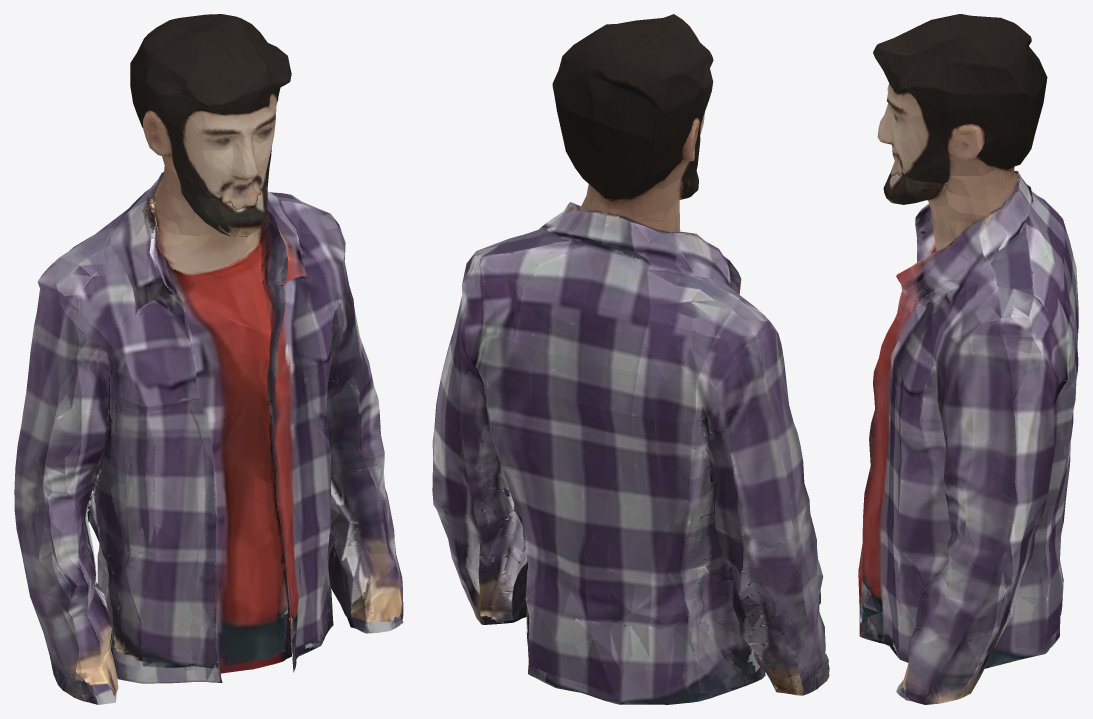
File: step_6.glb
3 views of the same model, side by side, from view 1: azimuth 30°, elevation 25°; view 2: azimuth 150°, elevation 25°; view 3: azimuth 270°, elevation 25° (orthographic). The views are drawn at different scales.
Parts seen in each view (by area): view 1: geometry_0; view 2: geometry_0; view 3: geometry_0.
Boxes of the visible parts, left/top/right/bottom form: geometry_0: left=14, top=14, right=403, bottom=704; geometry_0: left=432, top=14, right=829, bottom=704; geometry_0: left=858, top=14, right=1078, bottom=704.
Size of the model in its own units: 0.5031 by 0.8284 by 0.2748.
1 material, 1 textured.
